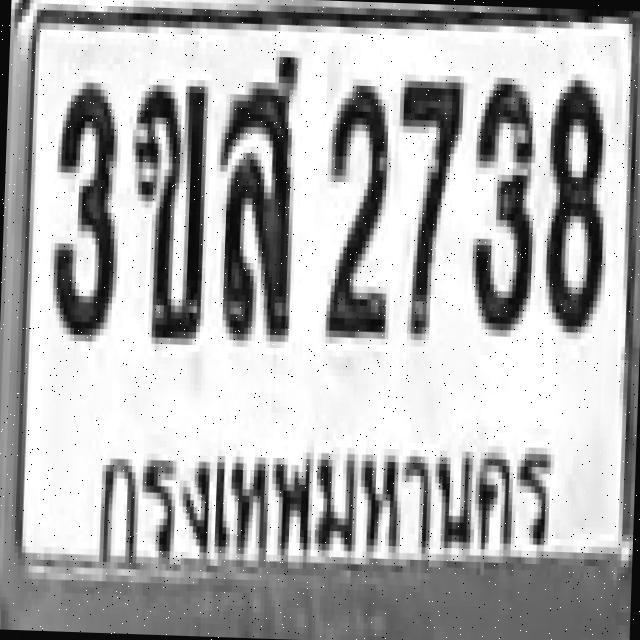11KhorKhai: (125, 78, 208, 338)
2: (319, 78, 392, 332)
3: (48, 74, 120, 336), (466, 70, 534, 330)
49SorSuea: (210, 48, 298, 335)
7: (388, 73, 460, 334)
8: (540, 72, 604, 326)
Bangkok: (74, 390, 592, 638)
